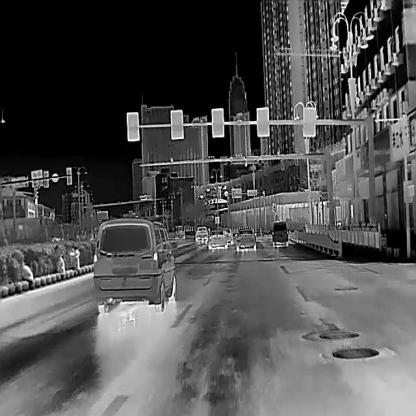car: (91, 215, 175, 311), (235, 226, 256, 249), (271, 221, 288, 245), (209, 229, 226, 248), (194, 225, 209, 241), (221, 227, 232, 243)
